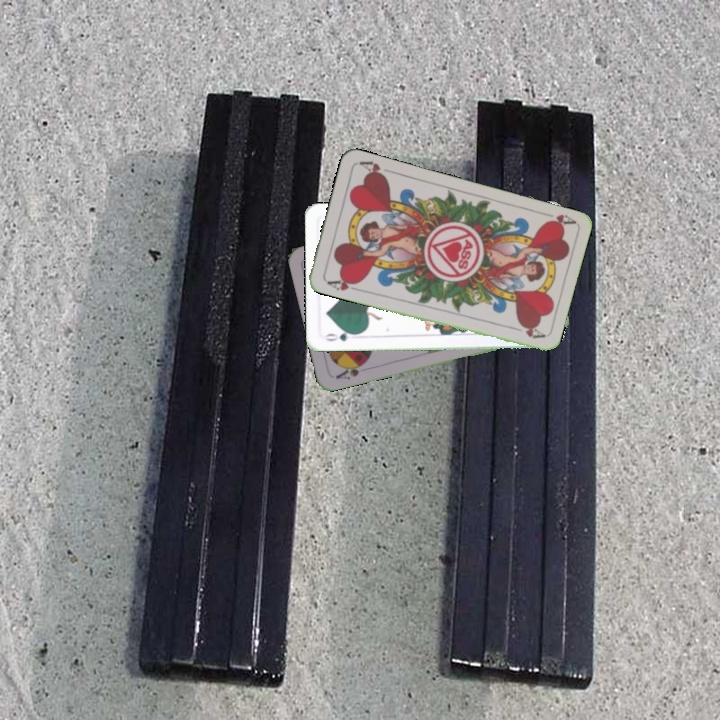GO: (321, 327, 361, 344)
HA: (537, 208, 577, 230), (323, 273, 363, 293)
SA: (332, 358, 369, 383)
